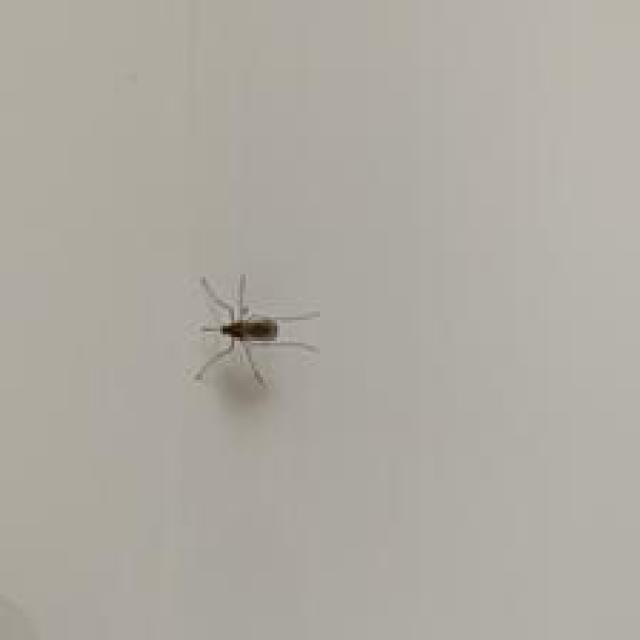Culex: (190, 272, 321, 388)
